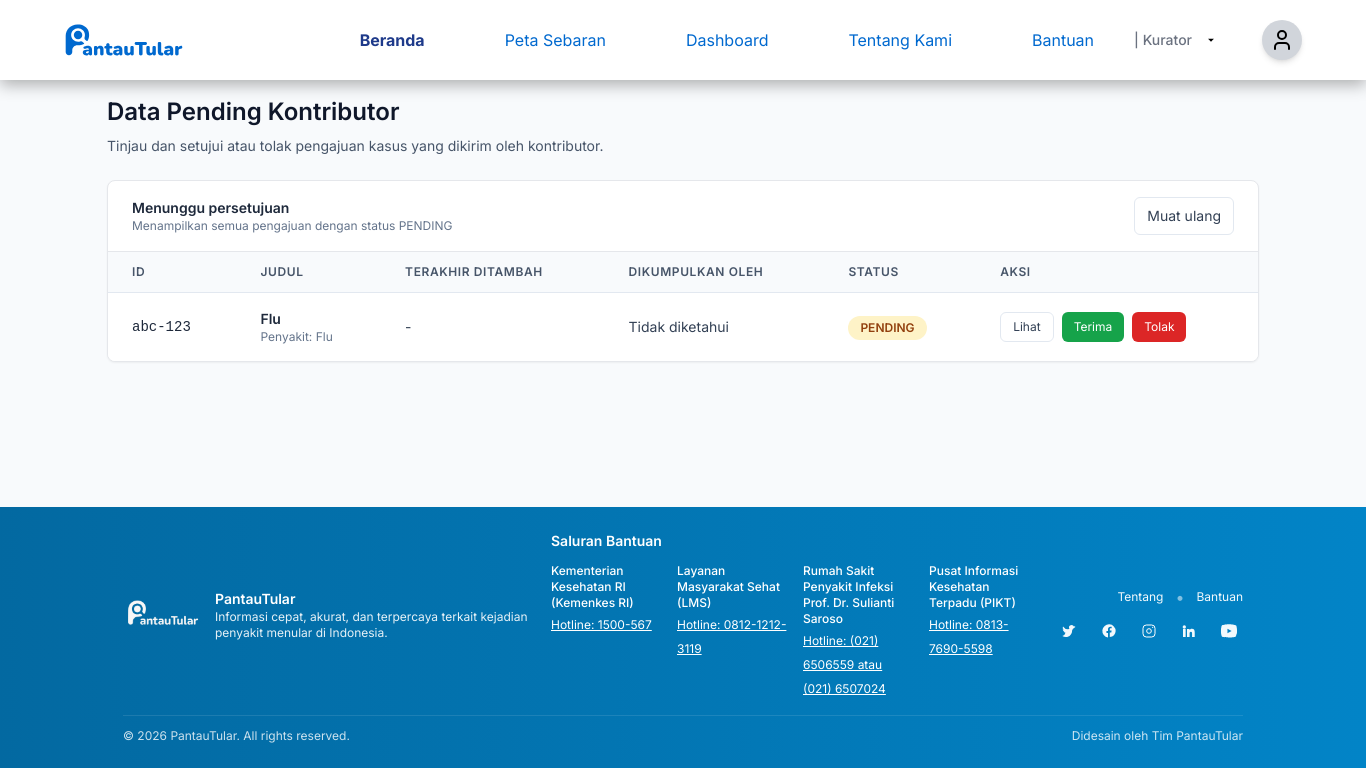
Test: handleAction surfaces HttpError string detail
This screenshot has width=1366, height=768.
Click the button "Terima": point(1093, 327) 1062,312 -> 1124,342
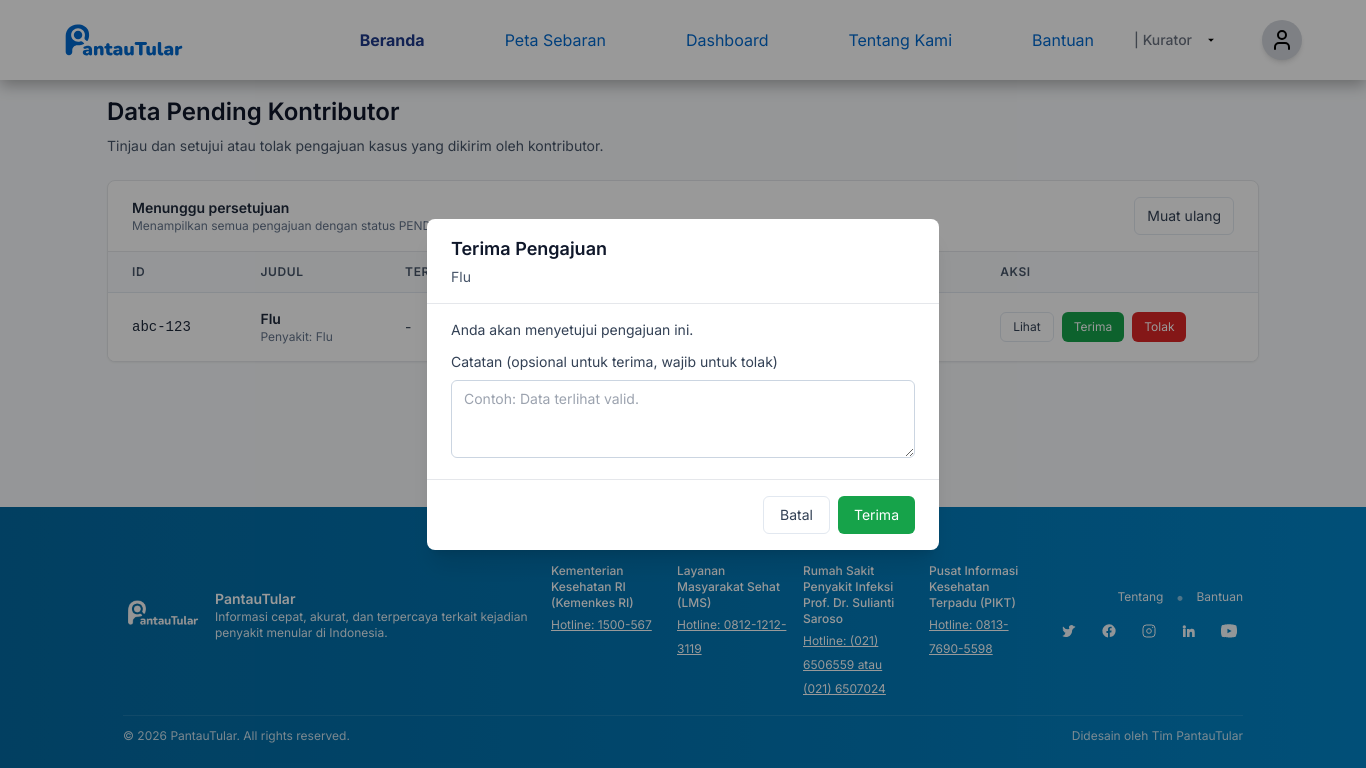
Click the button "Terima": point(876, 514) 838,496 -> 915,534
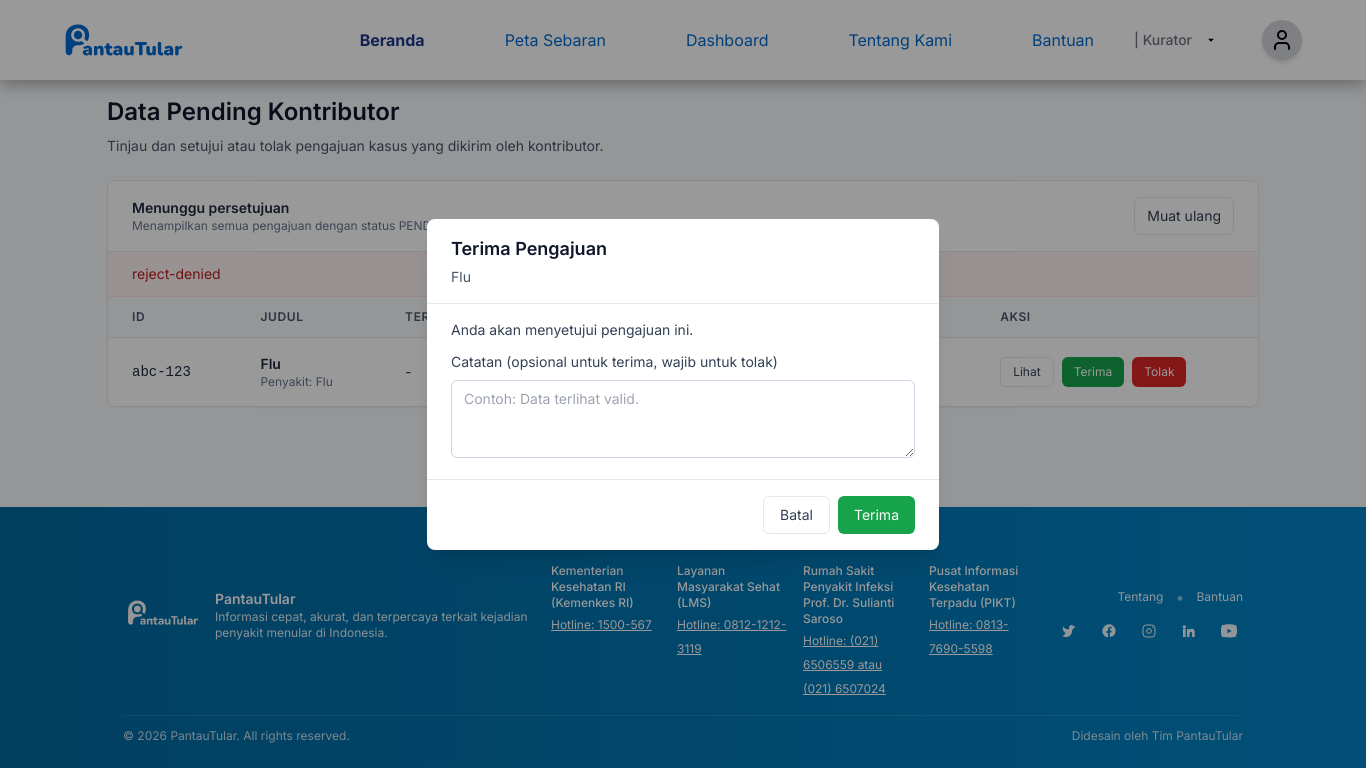
Check: the text "reject-denied" is shown, box 108,252 -> 1258,297
